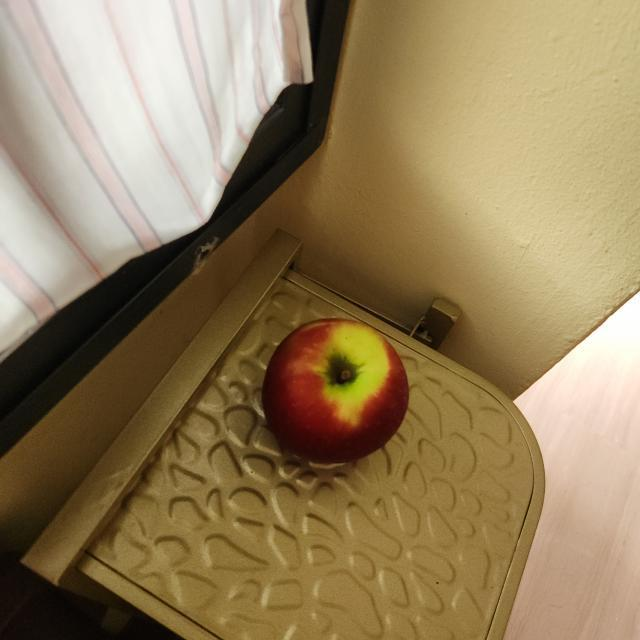apple: (252, 314, 416, 470)
